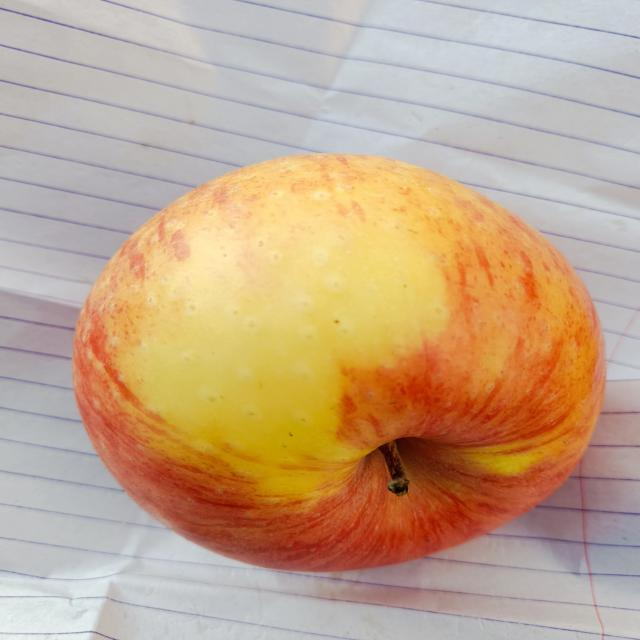Fresh Apple: (75, 149, 612, 575)
